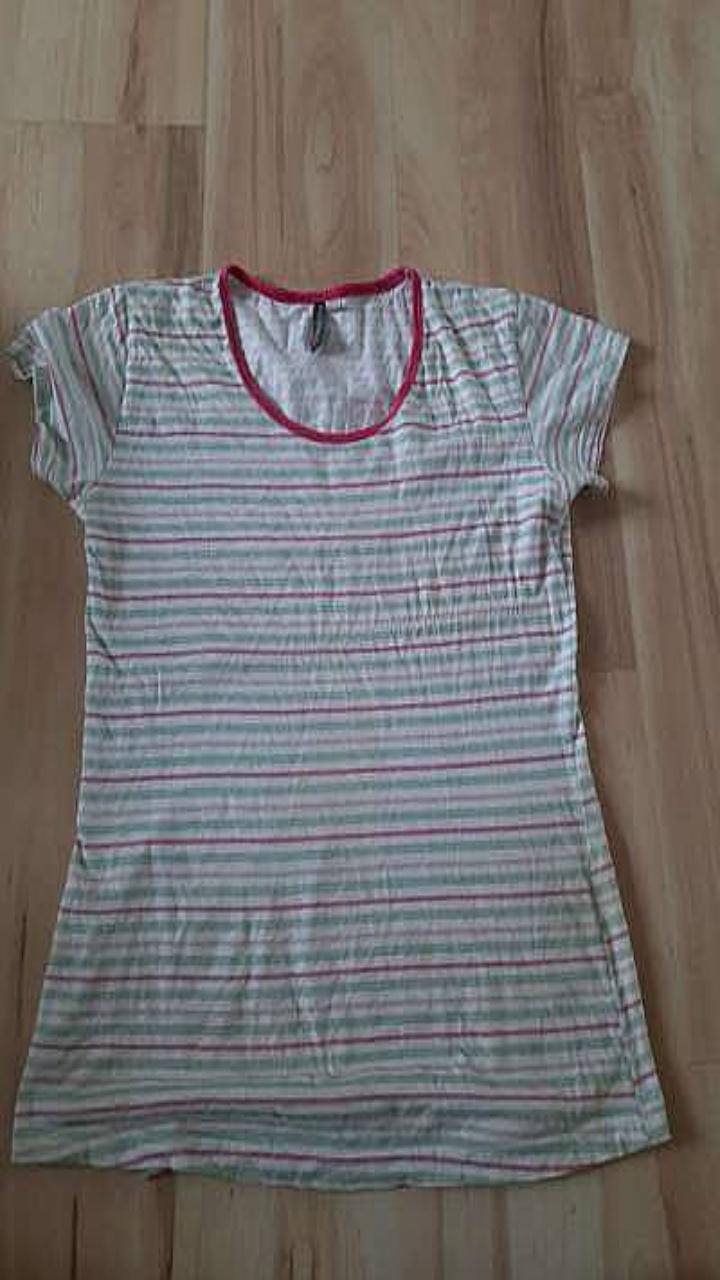T-Shirt: (5, 264, 668, 1187)
